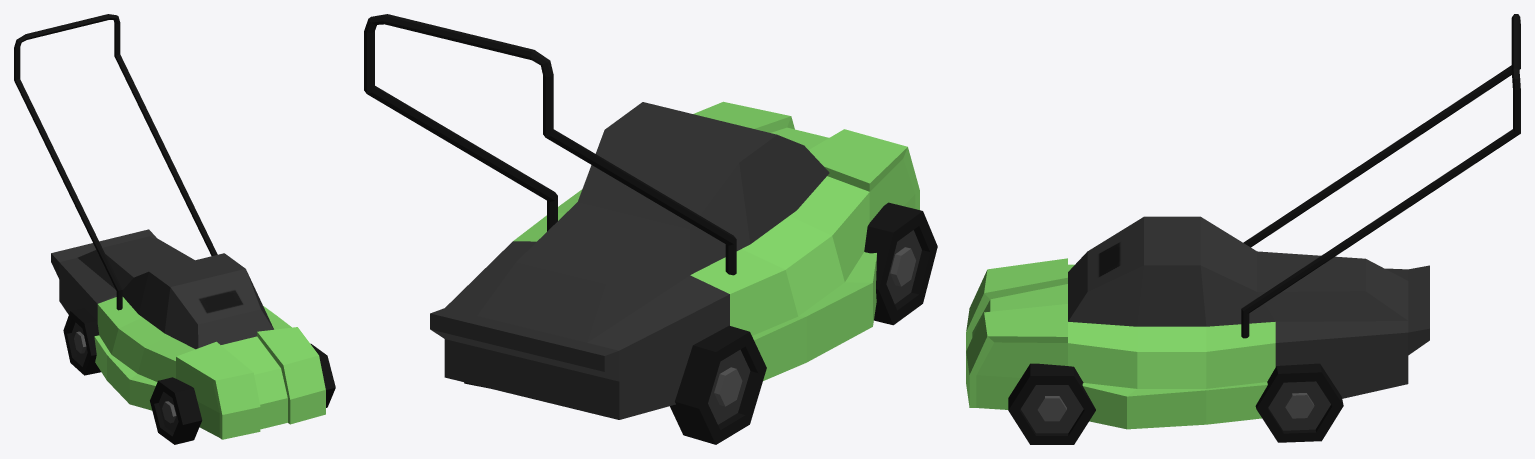
The model's file is weeding_machine.fbx.
The picture shows the model from 3 angles, left to right: view 1: azimuth 30°, elevation 25°; view 2: azimuth 150°, elevation 25°; view 3: azimuth 270°, elevation 25°; orthographic projection. The views are drawn at different scales.
Parts seen in each view (by area): view 1: weeding machine; view 2: weeding machine; view 3: weeding machine.
Boxes of the visible parts, x1,y1,x2,y2 form: weeding machine: (14,14,335,444); weeding machine: (364,14,937,444); weeding machine: (966,14,1520,444).
Size of the model in its own units: 0.9743 by 1.47 by 2.08.
1 material, 1 textured.
